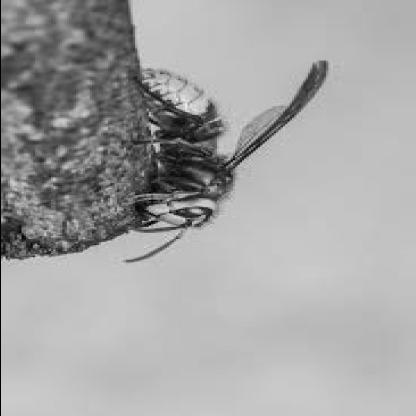european: (102, 55, 336, 266)
